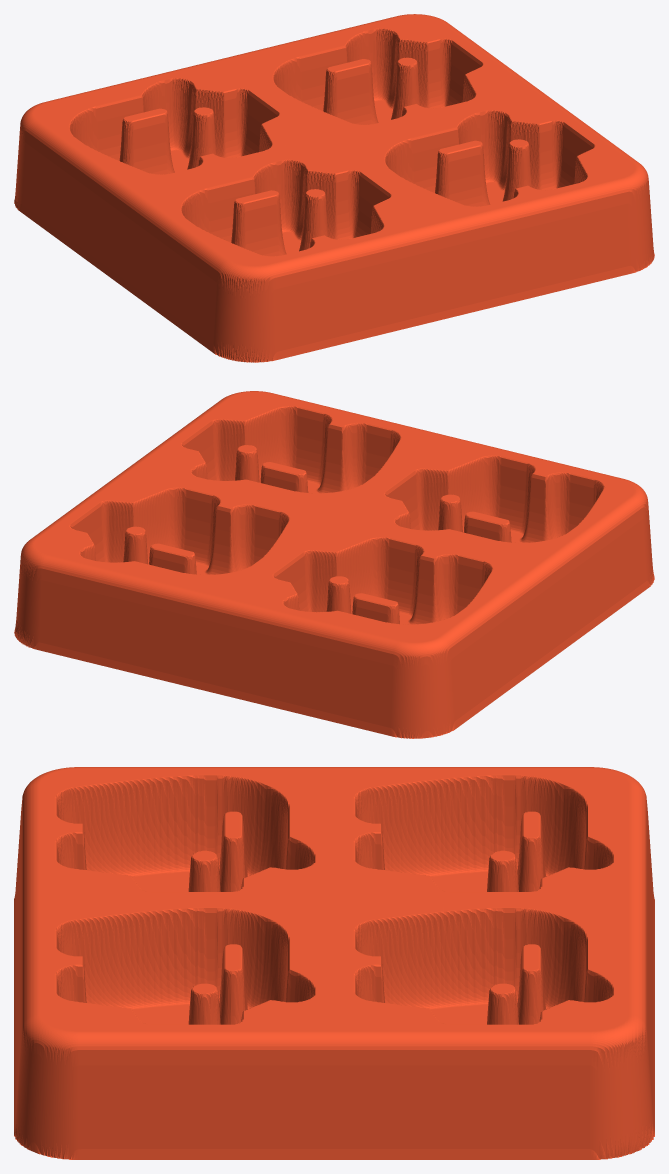
The model's file is mold.glb.
The picture shows the model from 3 angles, top to bottom: view 1: azimuth 30°, elevation 25°; view 2: azimuth 150°, elevation 25°; view 3: azimuth 270°, elevation 25°; orthographic projection. The views are drawn at different scales.
Visible parts, largest first — view 1: geometry_0; view 2: geometry_0; view 3: geometry_0.
Part boxes in pixels (x1=…): geometry_0: x1=14, y1=14, x2=654, y2=362; geometry_0: x1=14, y1=391, x2=654, y2=738; geometry_0: x1=14, y1=767, x2=654, y2=1159.
Bounding box in the file's own units: 0.0942 × 0.0182 × 0.0898.
